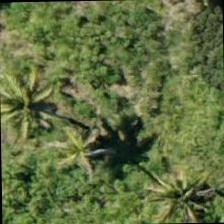Kelapa_Sawit: (36, 103, 128, 194), (0, 54, 83, 146), (121, 142, 213, 223)
